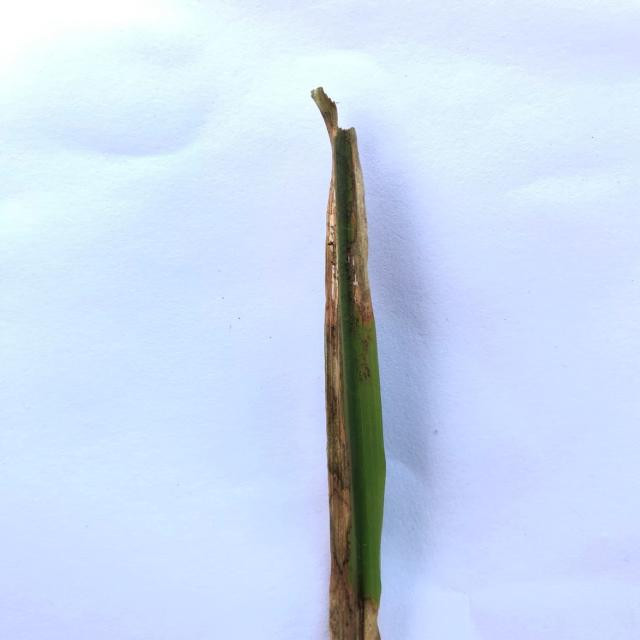leaf blight: (321, 178, 360, 640), (347, 128, 382, 328), (308, 86, 342, 148)
